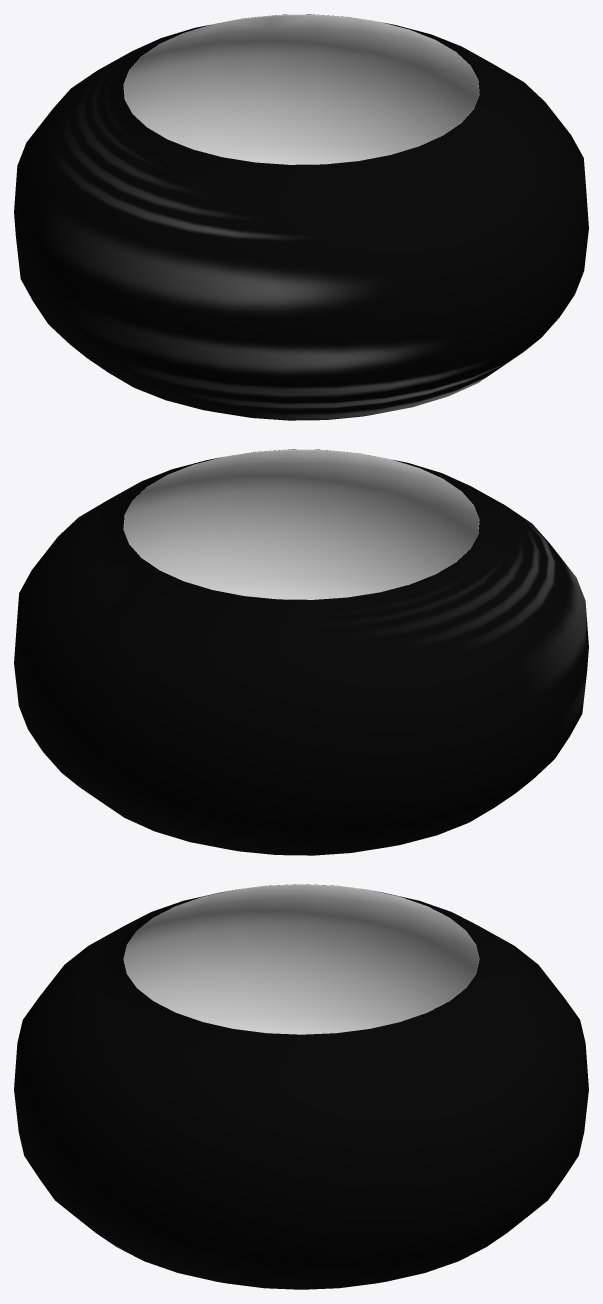
File: p_mesh_plasmadrill_laserbeam_diameter_pose2.fbx
The picture shows the model from 3 angles, top to bottom: view 1: azimuth 30°, elevation 25°; view 2: azimuth 150°, elevation 25°; view 3: azimuth 270°, elevation 25°; orthographic projection.
Visible parts, largest first — view 1: plasmadrill_diameter_pose2; view 2: plasmadrill_diameter_pose2; view 3: plasmadrill_diameter_pose2.
Part boxes in pixels (x1=…): plasmadrill_diameter_pose2: x1=14, y1=14, x2=588, y2=420; plasmadrill_diameter_pose2: x1=14, y1=449, x2=588, y2=855; plasmadrill_diameter_pose2: x1=14, y1=884, x2=588, y2=1289.
Bounding box in the file's own units: 30.25 × 15.05 × 30.25.
